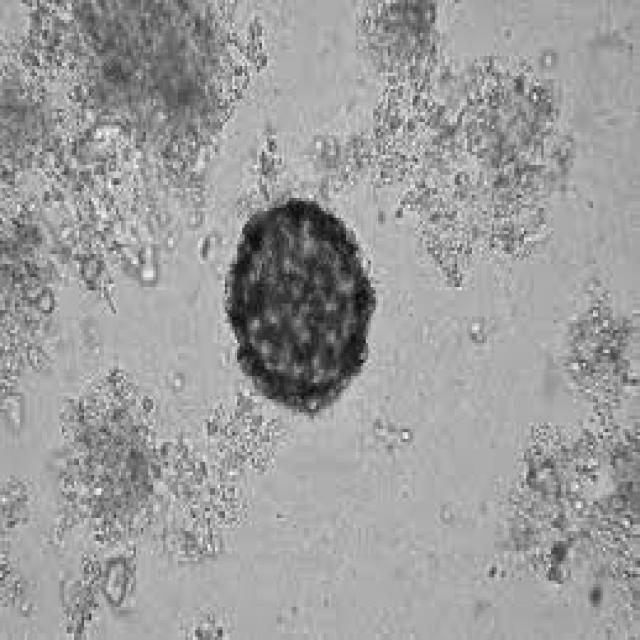Ascaris Lumbricoides: (225, 187, 383, 430)
